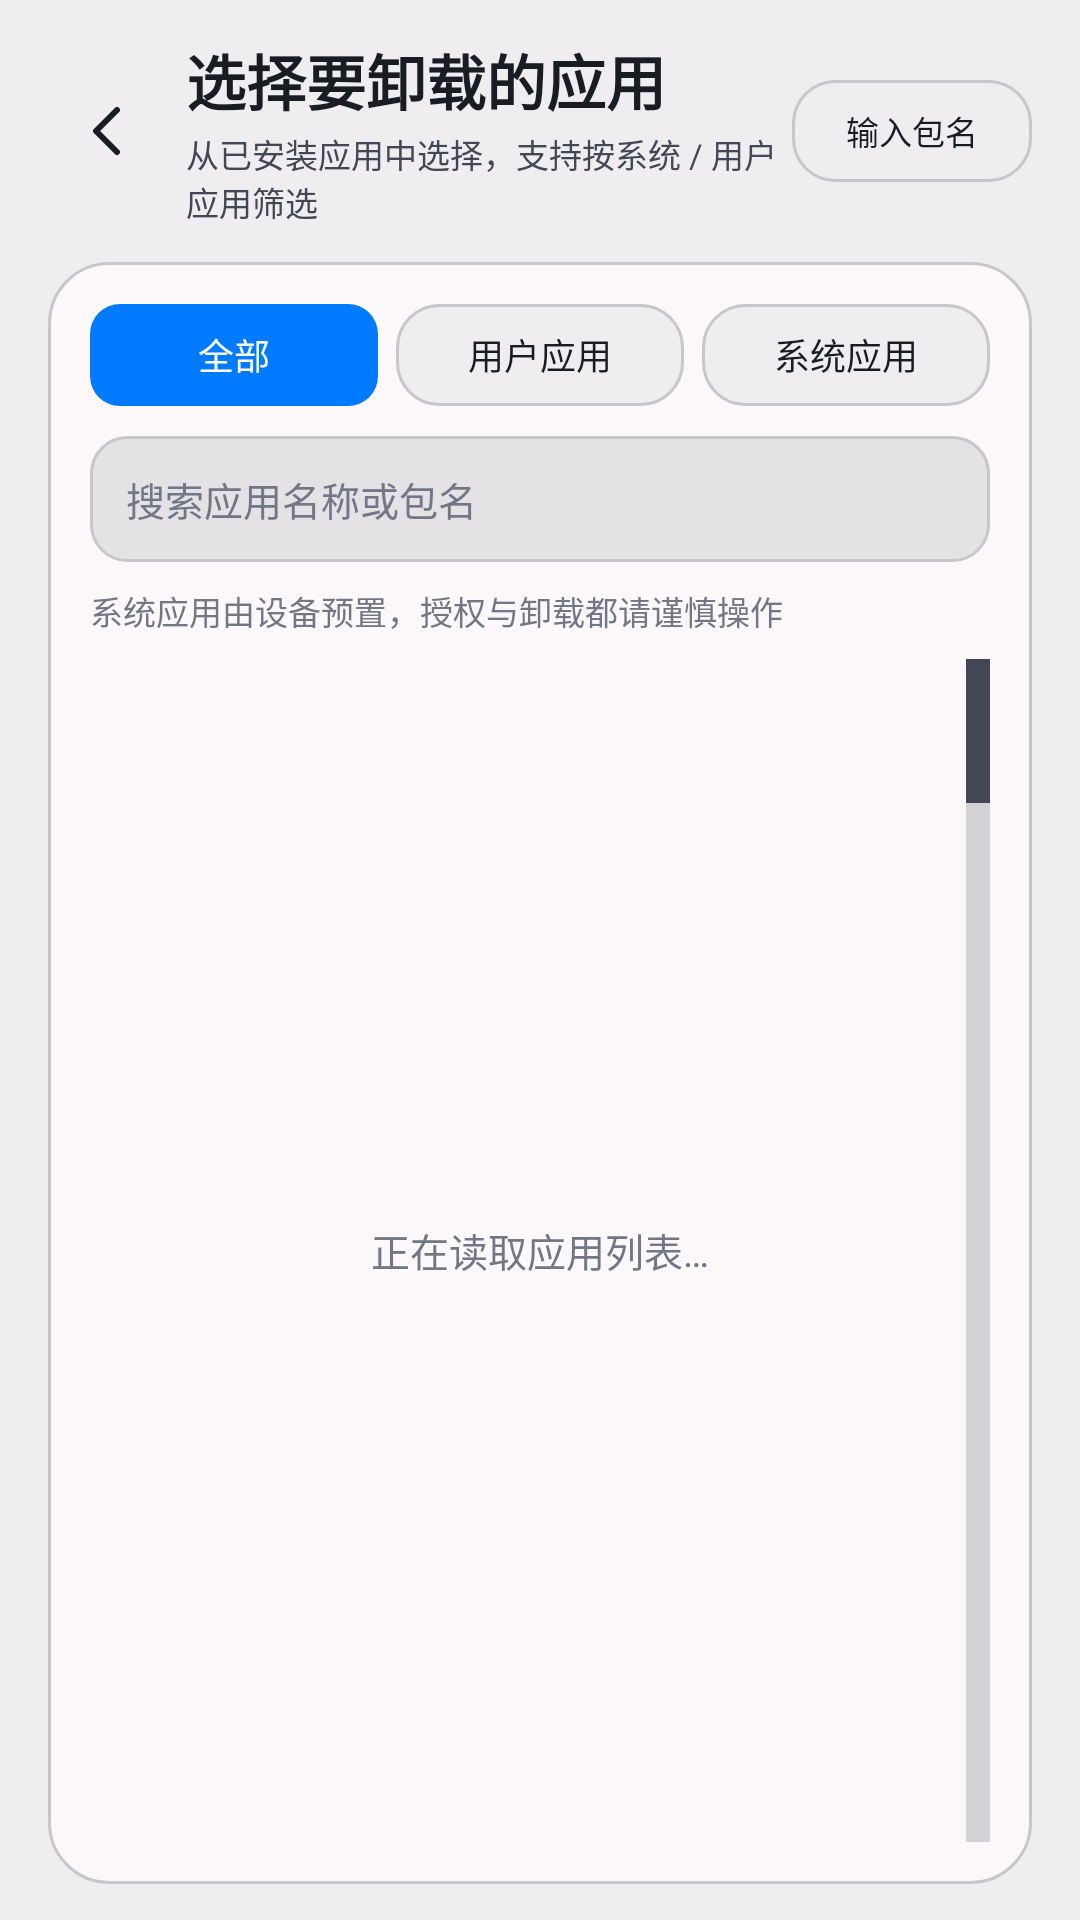

Named icons in this screenshot (1080×1920) and their centers, [x,y]:
返回: [106,131]
